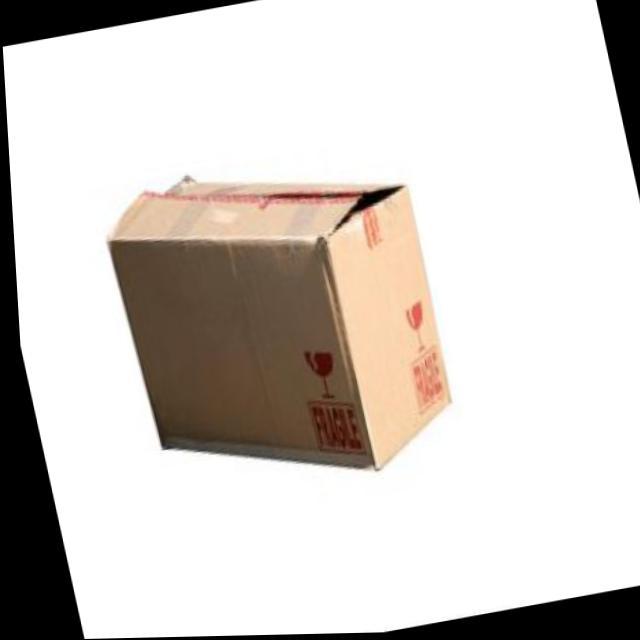box: (74, 118, 481, 526)
